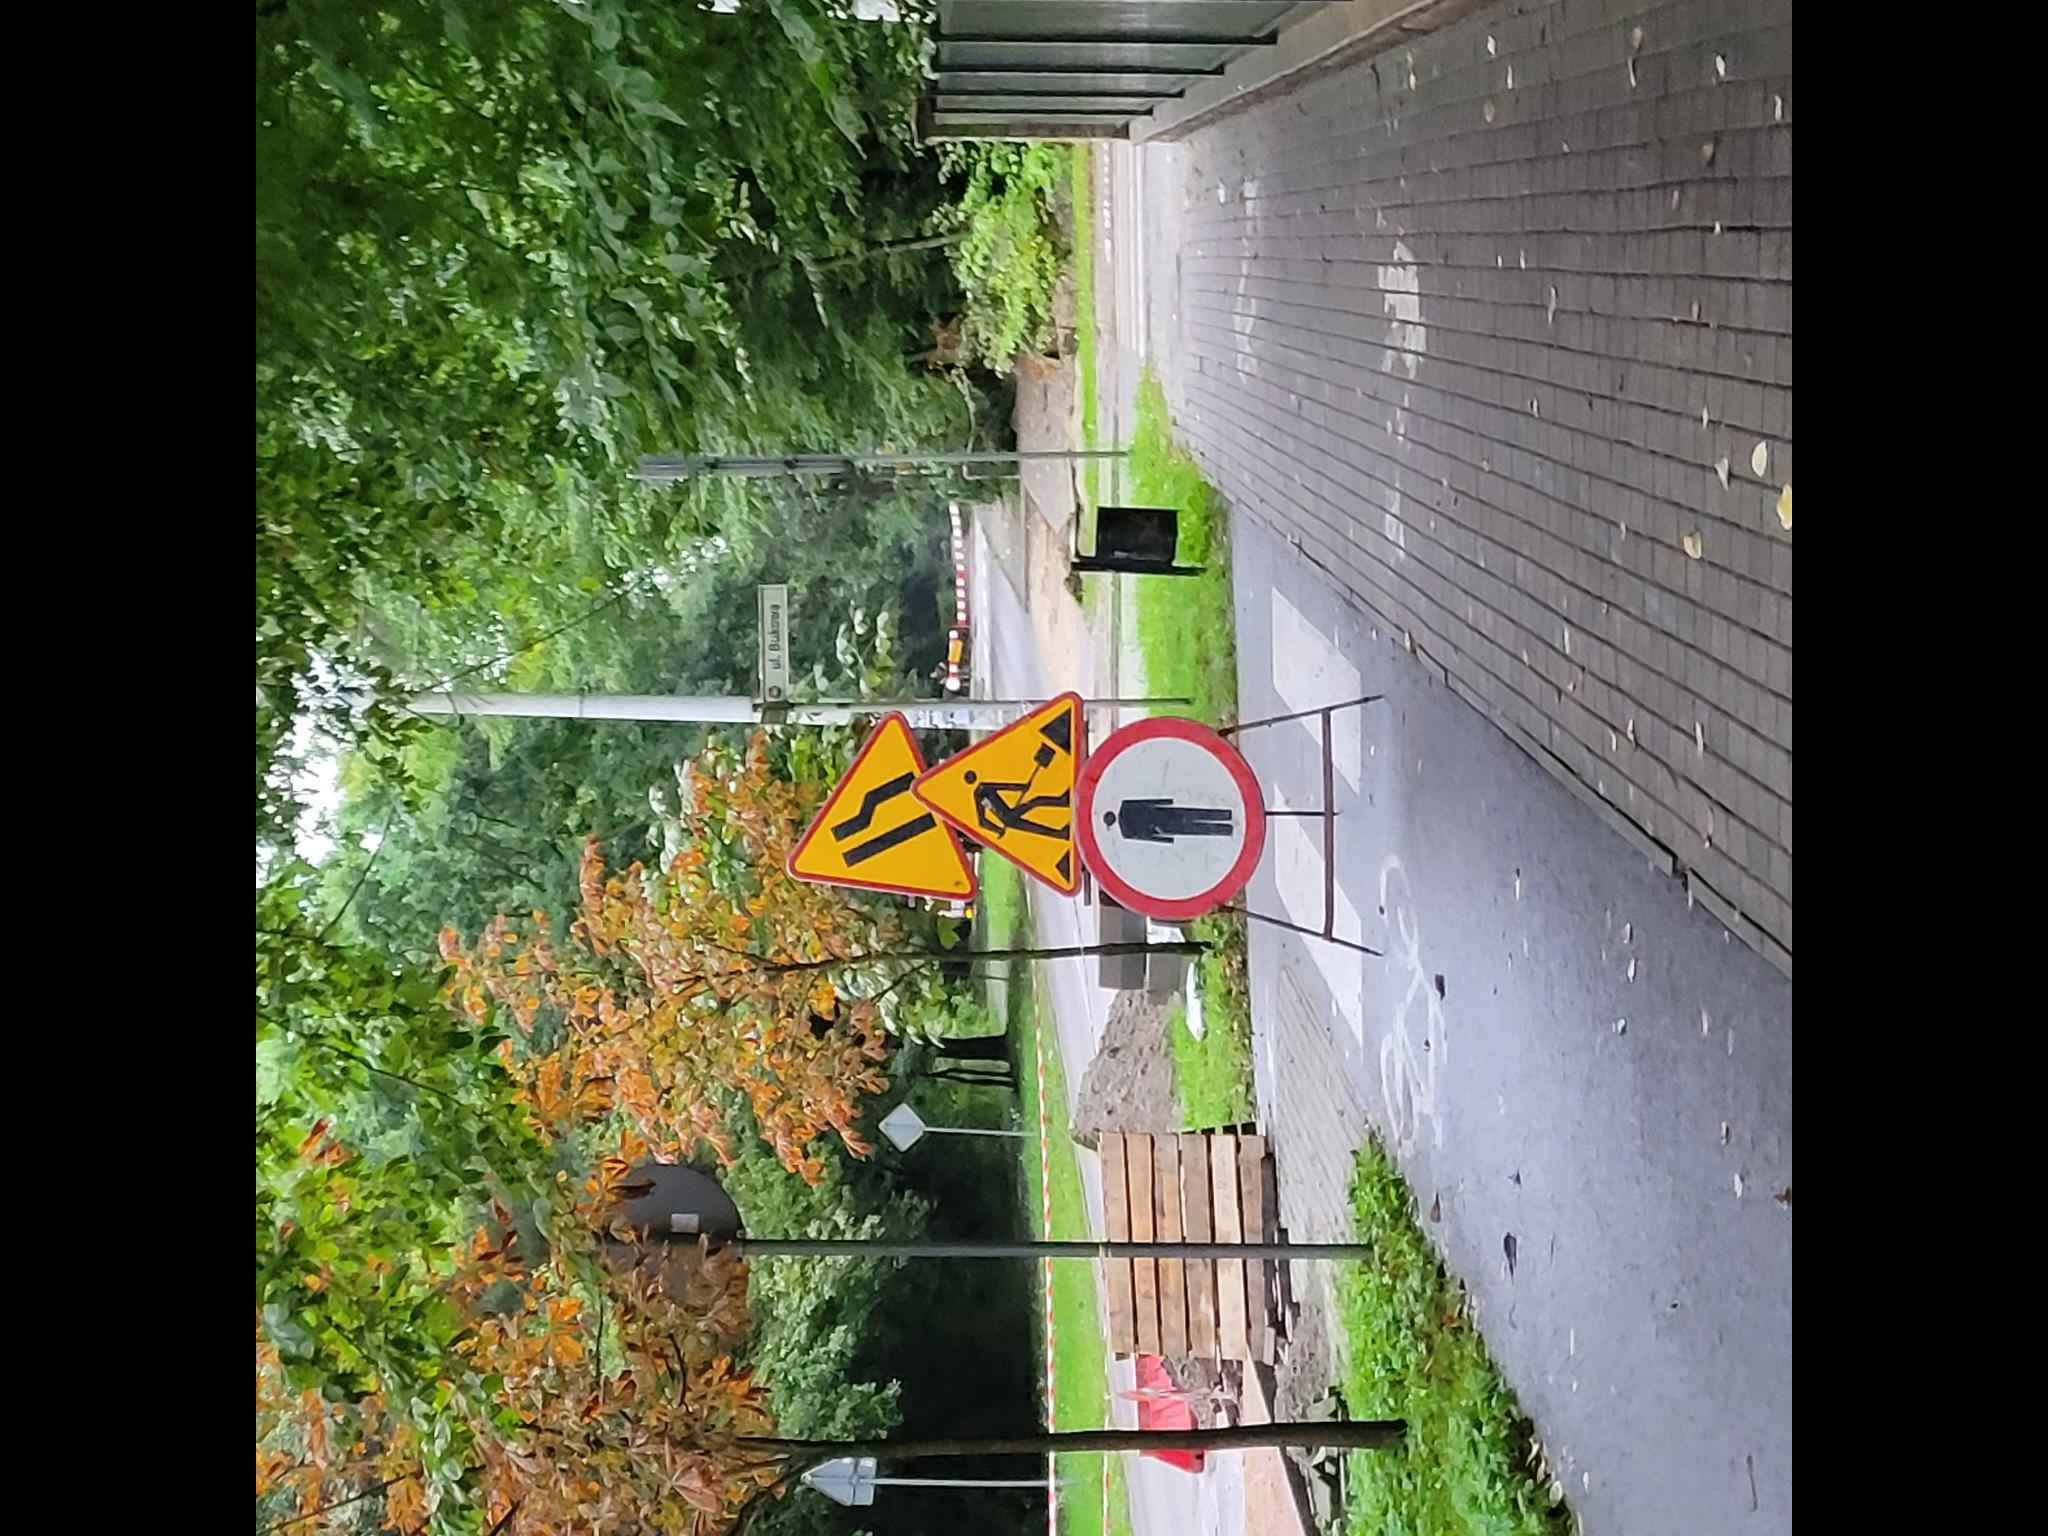prohibitory: (1071, 708, 1266, 923)
warning: (782, 708, 985, 907), (906, 687, 1084, 895)
